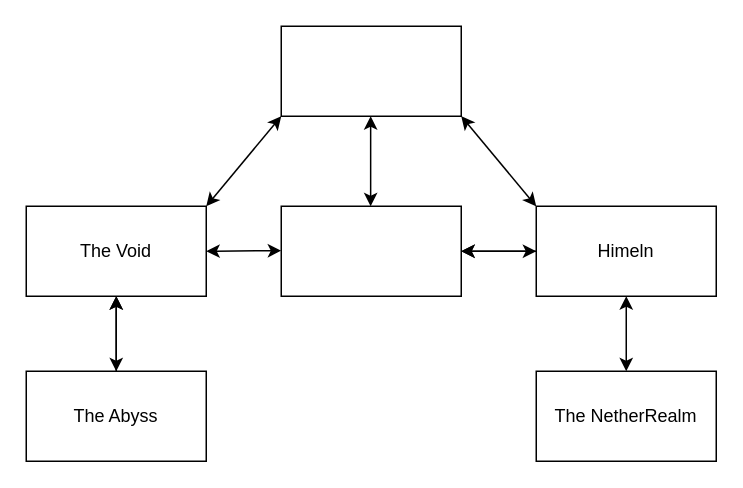
Image size: 743x488. Some labels were removed from this diagram. The centre of each missing label's shape, as x and y in pixels:
Djungeln: point (370, 250)
Sovrum: point (370, 70)
